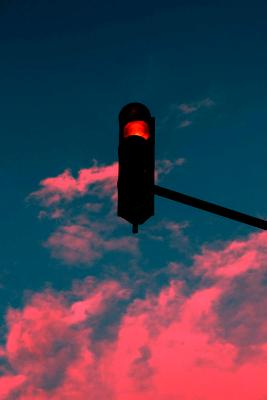International Road Signal Light: (115, 103, 157, 234)
